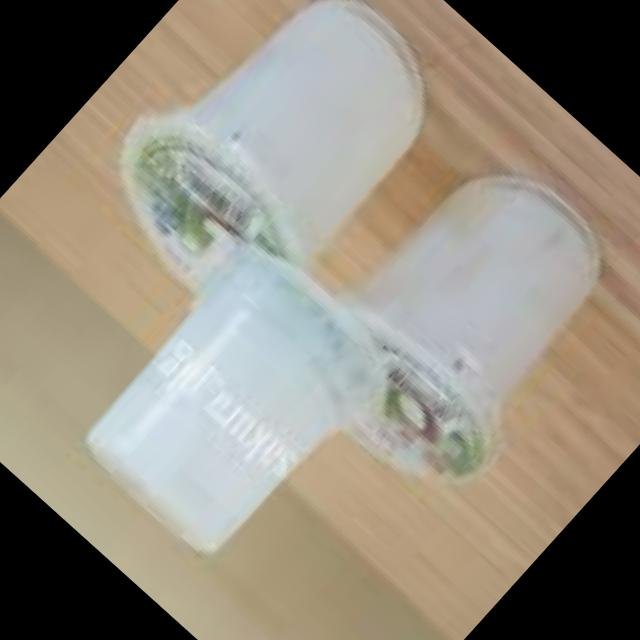GelasPlastik: (275, 137, 640, 523), (73, 0, 464, 341)
